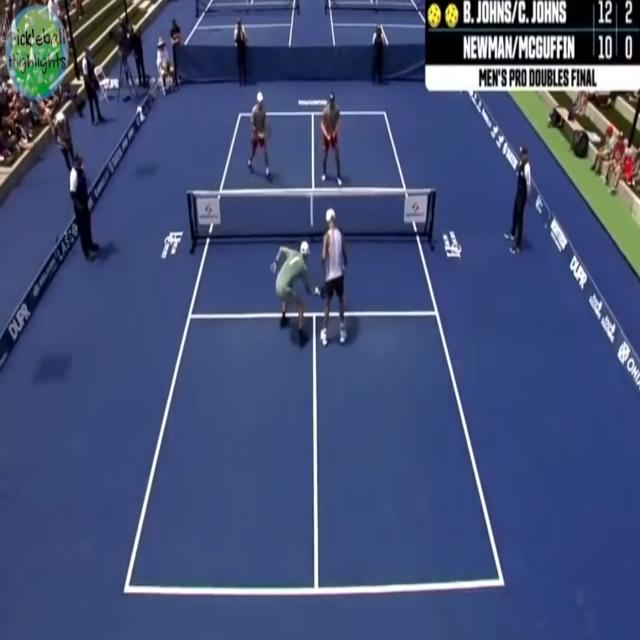Court: (127, 112, 502, 590)
